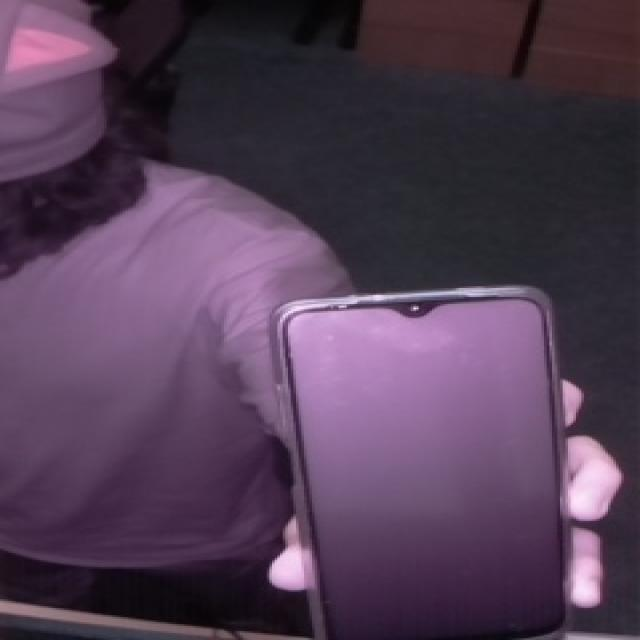phone: (251, 259, 600, 640)
